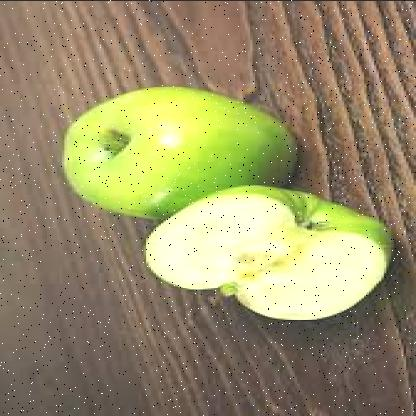apple: (62, 86, 297, 219)
damaged_apple: (143, 184, 388, 322)
